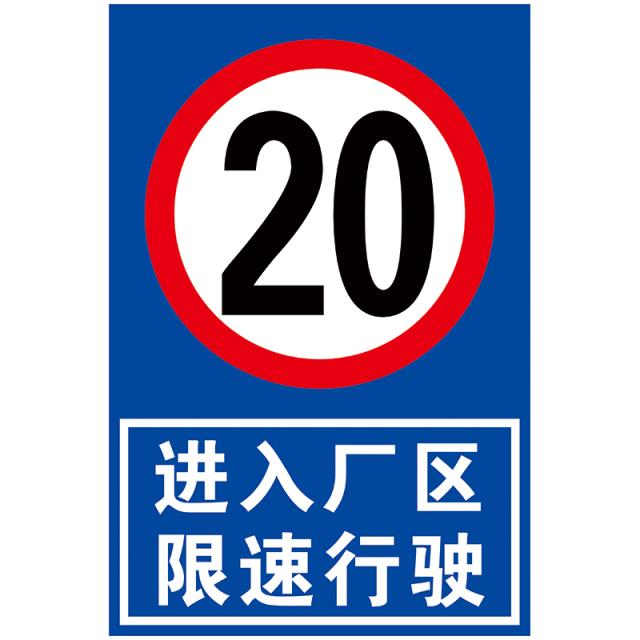speed limit 20: (148, 35, 498, 389)
